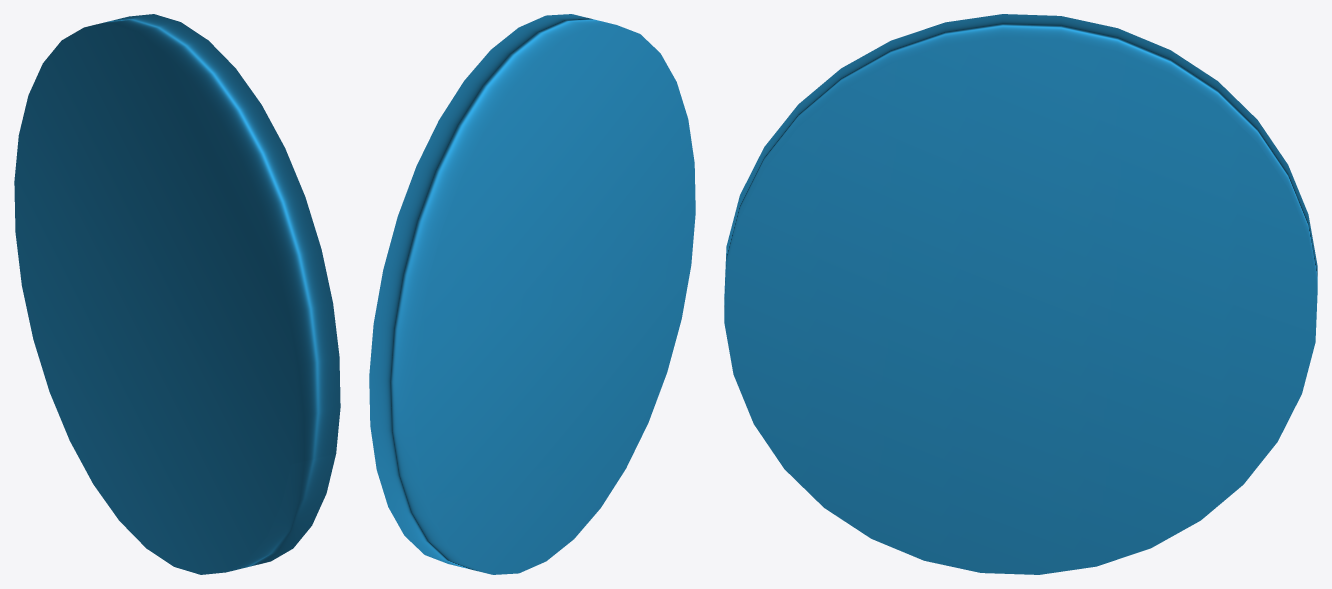
The picture shows the model from 3 angles, left to right: view 1: azimuth 30°, elevation 25°; view 2: azimuth 150°, elevation 25°; view 3: azimuth 270°, elevation 25°; orthographic projection. The views are drawn at different scales.
Parts seen in each view (by area): view 1: telegram; view 2: telegram; view 3: telegram.
Part boxes in pixels (left/top/right/bottom): telegram: left=14, top=14, right=340, bottom=574; telegram: left=369, top=14, right=695, bottom=574; telegram: left=724, top=14, right=1317, bottom=574.
Bounding box in the file's own units: 0.1841 × 2 × 2.
Materials: 2 (1 with a texture image).
